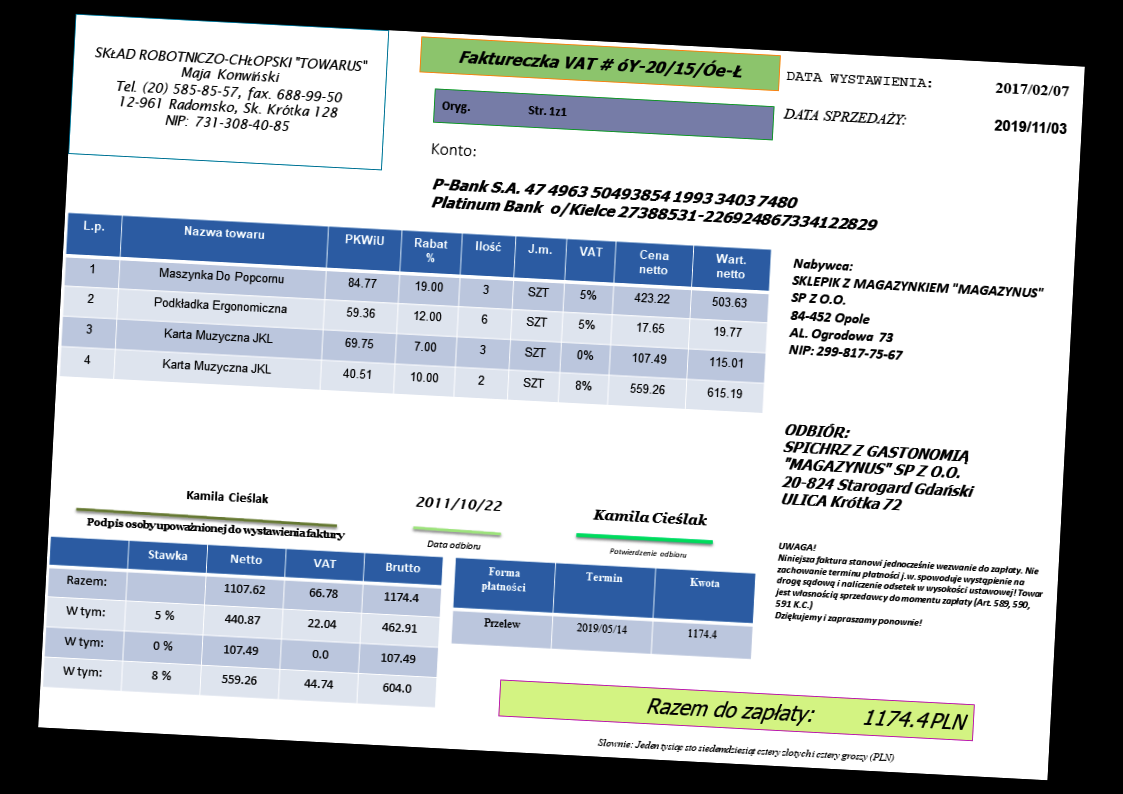Table: (58, 211, 772, 414), (42, 535, 445, 708), (450, 555, 756, 661)
TextBox: (786, 254, 1047, 372), (428, 174, 880, 234), (89, 43, 371, 138), (772, 540, 1048, 637), (780, 420, 981, 518), (644, 691, 971, 736), (456, 45, 745, 84), (596, 733, 897, 766), (83, 513, 347, 544), (782, 67, 935, 92), (439, 97, 568, 122), (782, 104, 910, 128), (591, 504, 711, 529), (414, 492, 504, 515), (993, 77, 1071, 101), (991, 115, 1069, 138), (183, 487, 270, 507), (607, 545, 688, 560), (428, 140, 478, 161), (424, 538, 481, 553)
